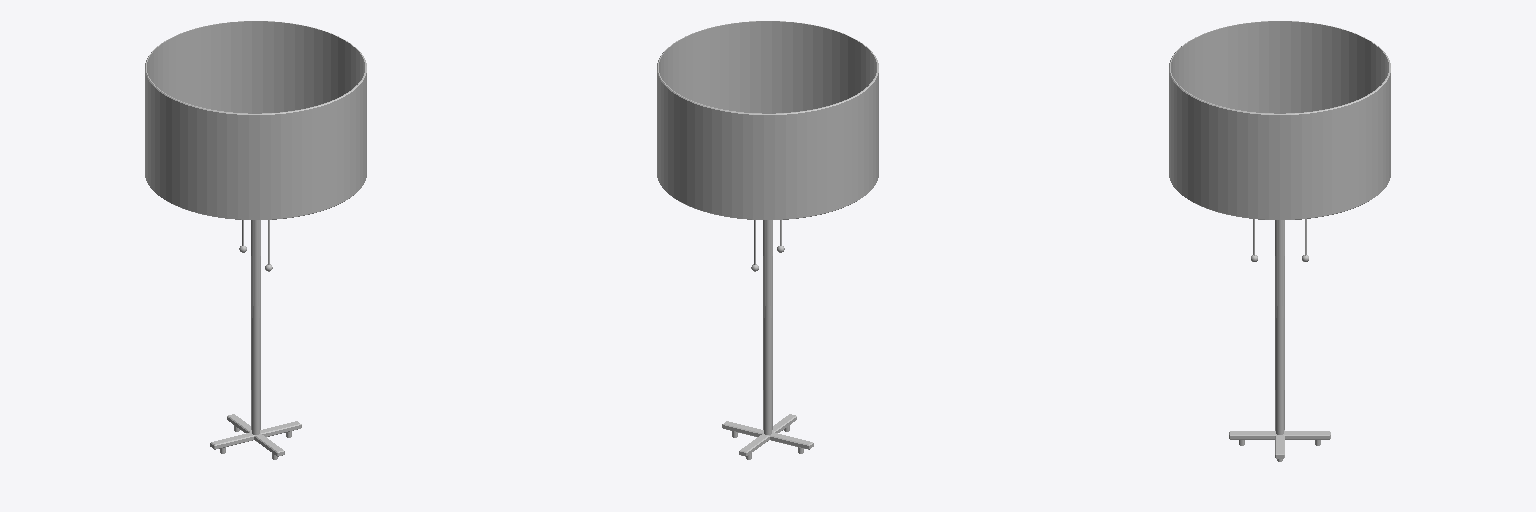
3 views of the same model, side by side, from view 1: azimuth 30°, elevation 25°; view 2: azimuth 150°, elevation 25°; view 3: azimuth 270°, elevation 25° (orthographic).
Visible parts, largest first — view 1: qingmo_0374d85c_4937_44ee_919c_9200d97d9aa4, qingmo_5ac25bef_cc87_4530_ae5a_4324f96326b6, qingmo_99c11487_4c73_412b_86cc_1438d7be20d4, qingmo_a5256a0d_ccf5_44b8_a989_c548cfd4dc4e; view 2: qingmo_0374d85c_4937_44ee_919c_9200d97d9aa4, qingmo_5ac25bef_cc87_4530_ae5a_4324f96326b6, qingmo_99c11487_4c73_412b_86cc_1438d7be20d4, qingmo_a5256a0d_ccf5_44b8_a989_c548cfd4dc4e; view 3: qingmo_0374d85c_4937_44ee_919c_9200d97d9aa4, qingmo_5ac25bef_cc87_4530_ae5a_4324f96326b6, qingmo_99c11487_4c73_412b_86cc_1438d7be20d4, qingmo_a5256a0d_ccf5_44b8_a989_c548cfd4dc4e.
Boxes of the visible parts, <box> form: qingmo_0374d85c_4937_44ee_919c_9200d97d9aa4: <box>145,21,366,219</box>; qingmo_5ac25bef_cc87_4530_ae5a_4324f96326b6: <box>147,21,364,113</box>; qingmo_99c11487_4c73_412b_86cc_1438d7be20d4: <box>251,220,260,434</box>; qingmo_a5256a0d_ccf5_44b8_a989_c548cfd4dc4e: <box>210,414,301,459</box>; qingmo_0374d85c_4937_44ee_919c_9200d97d9aa4: <box>657,21,878,219</box>; qingmo_5ac25bef_cc87_4530_ae5a_4324f96326b6: <box>659,21,876,113</box>; qingmo_99c11487_4c73_412b_86cc_1438d7be20d4: <box>763,220,772,434</box>; qingmo_a5256a0d_ccf5_44b8_a989_c548cfd4dc4e: <box>722,414,813,459</box>; qingmo_0374d85c_4937_44ee_919c_9200d97d9aa4: <box>1169,21,1390,219</box>; qingmo_5ac25bef_cc87_4530_ae5a_4324f96326b6: <box>1171,21,1388,113</box>; qingmo_99c11487_4c73_412b_86cc_1438d7be20d4: <box>1275,220,1284,434</box>; qingmo_a5256a0d_ccf5_44b8_a989_c548cfd4dc4e: <box>1229,430,1330,461</box>.
Bounding box in the file's own units: 107 × 201 × 107.